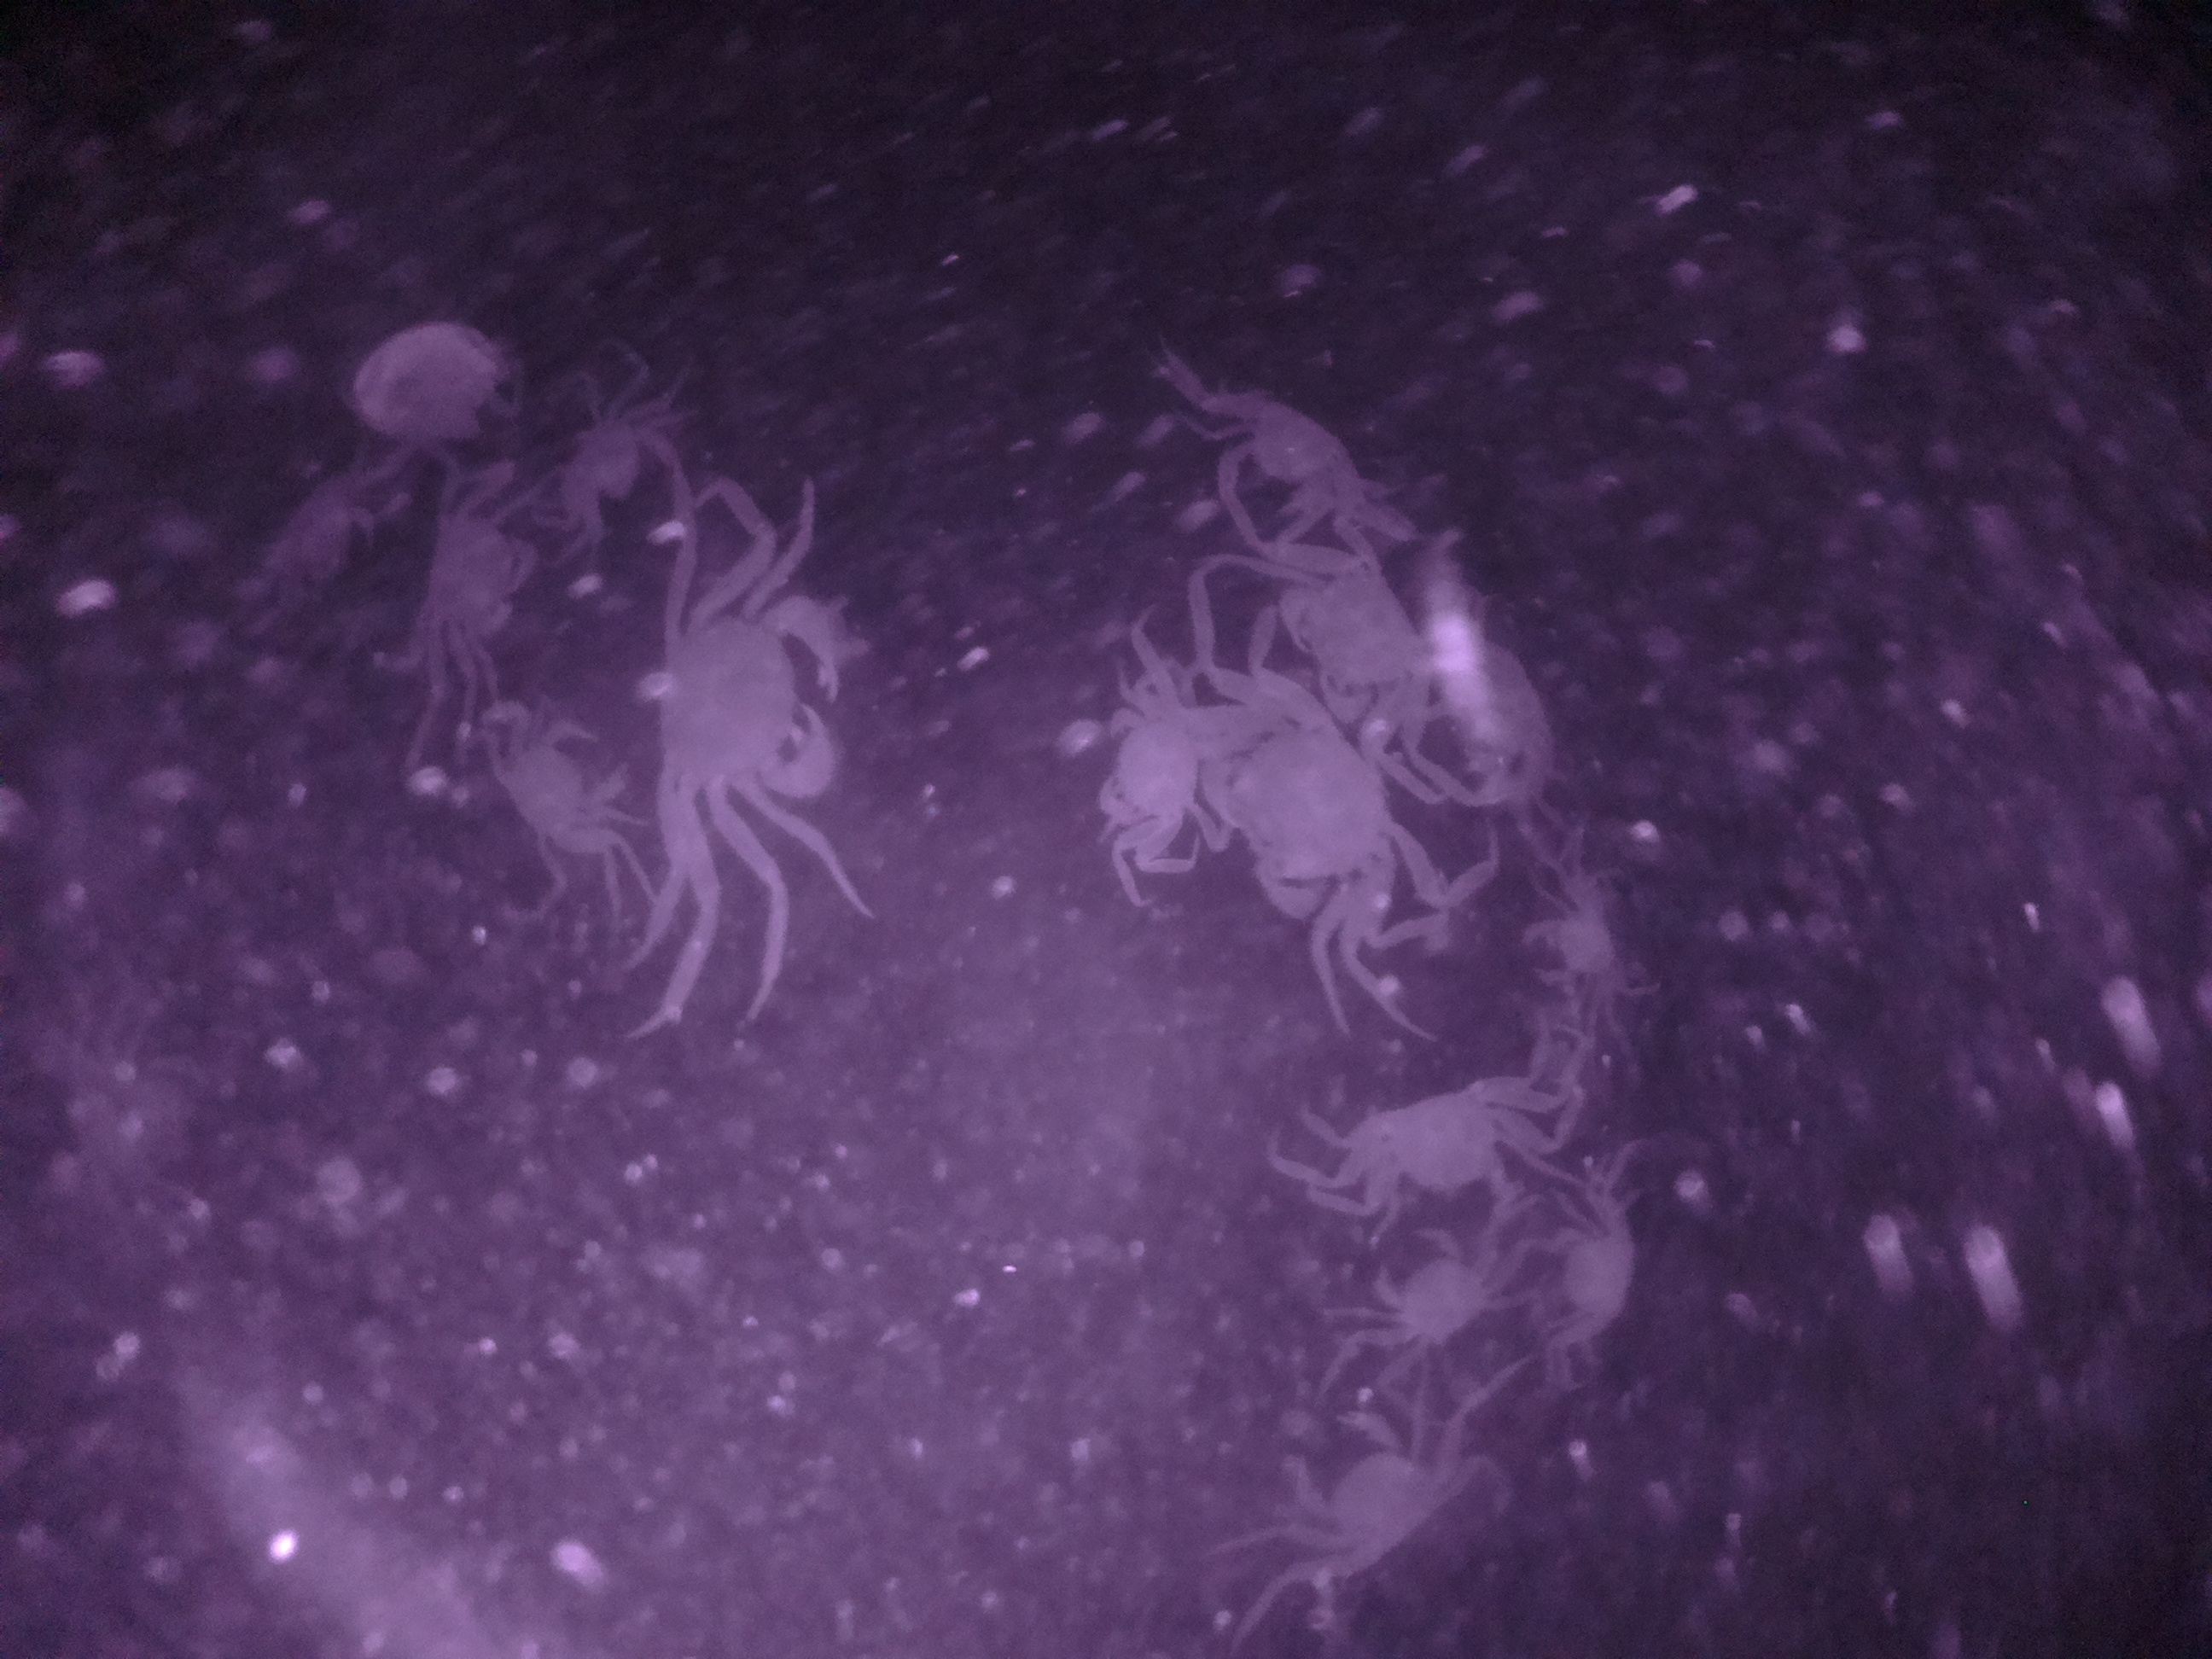Crab: (644, 551, 853, 838), (1251, 530, 1463, 751), (1245, 1410, 1489, 1584), (1291, 1061, 1554, 1211), (1165, 364, 1385, 540), (1076, 653, 1212, 850), (1339, 1222, 1514, 1370), (399, 495, 542, 673), (488, 716, 632, 889), (1501, 870, 1651, 1012)
